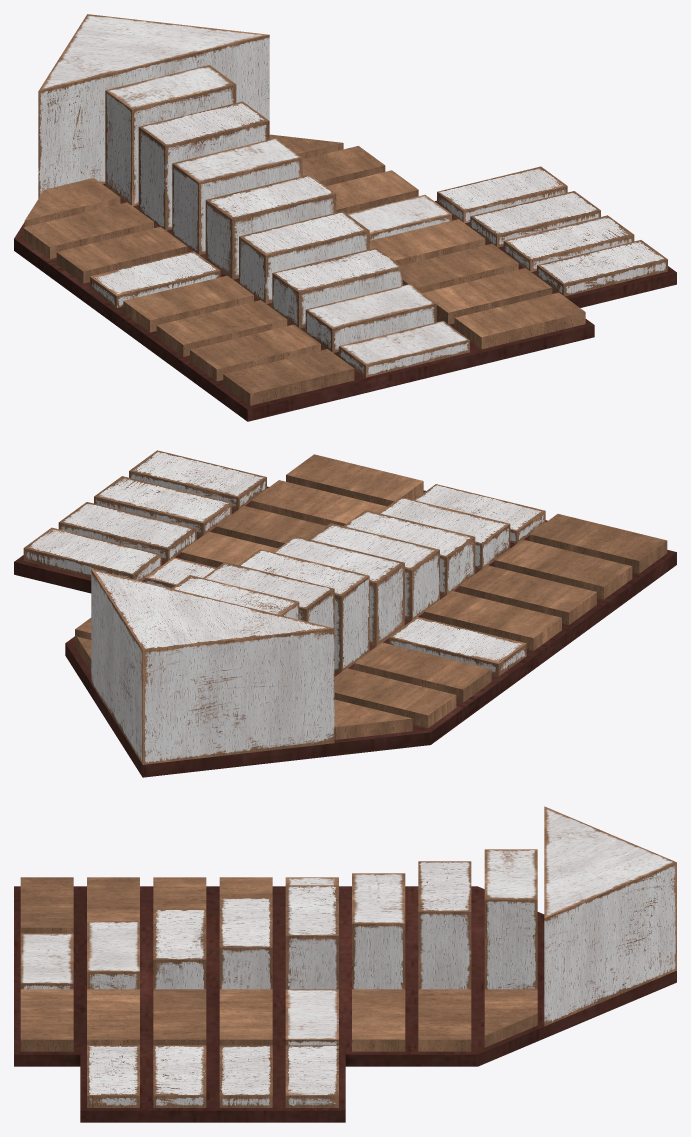
File: ParquesNodo.fbx
3 renders of one model, top to bottom at view 1: azimuth 30°, elevation 25°; view 2: azimuth 150°, elevation 25°; view 3: azimuth 270°, elevation 25°, orthographic. The views are drawn at different scales.
Parts seen in each view (by area): view 1: Haven, Node, PreHaven_7, PreHaven_6, PreHaven_5, PreHaven_4, PreHaven_3, PreHaven_2, PreHaven_1, C_10, C_11, Secure_2 (+18 smaller); view 2: Haven, Node, PreHaven_5, PreHaven_4, Base_1, PreHaven_3, C_10, C_9, Secure_1, C_6, C_7, C_8 (+15 smaller); view 3: Node, Haven, PreHaven_7, PreHaven_6, PreHaven_5, PreHaven_4, PreHaven_3, PreHaven_2, PreHaven_1, Base_3, Base_2, Base_1 (+15 smaller).
Boxes of the visible parts, <box> form: Haven: <box>38,14,269,198</box>; Node: <box>14,184,676,421</box>; PreHaven_7: <box>105,65,236,206</box>; PreHaven_6: <box>138,101,269,230</box>; PreHaven_5: <box>172,138,302,254</box>; PreHaven_4: <box>205,174,336,279</box>; PreHaven_3: <box>239,211,369,303</box>; PreHaven_2: <box>272,247,402,328</box>; PreHaven_1: <box>305,284,436,352</box>; C_10: <box>223,349,354,405</box>; C_11: <box>454,292,585,349</box>; Secure_2: <box>339,320,469,377</box>; Haven: <box>91,569,334,764</box>; Node: <box>14,486,676,777</box>; PreHaven_5: <box>238,549,369,672</box>; PreHaven_4: <box>273,536,404,646</box>; Base_1: <box>23,527,161,581</box>; PreHaven_3: <box>308,523,439,620</box>; C_10: <box>529,514,667,573</box>; C_9: <box>494,539,632,599</box>; Secure_1: <box>389,616,526,676</box>; C_6: <box>354,642,491,702</box>; C_7: <box>424,591,561,650</box>; C_8: <box>459,565,596,625</box>; Node: <box>14,886,676,1122</box>; Haven: <box>544,806,676,1026</box>; PreHaven_7: <box>484,849,537,989</box>; PreHaven_6: <box>418,861,471,989</box>; PreHaven_5: <box>352,873,405,989</box>; PreHaven_4: <box>285,885,338,989</box>; PreHaven_3: <box>219,897,272,989</box>; PreHaven_2: <box>153,909,206,989</box>; PreHaven_1: <box>87,921,139,989</box>; Base_3: <box>153,1045,206,1107</box>; Base_2: <box>219,1045,272,1107</box>; Base_1: <box>285,1045,338,1107</box>.
Bounding box in the file's own units: 0.6 × 0.15 × 0.75.
